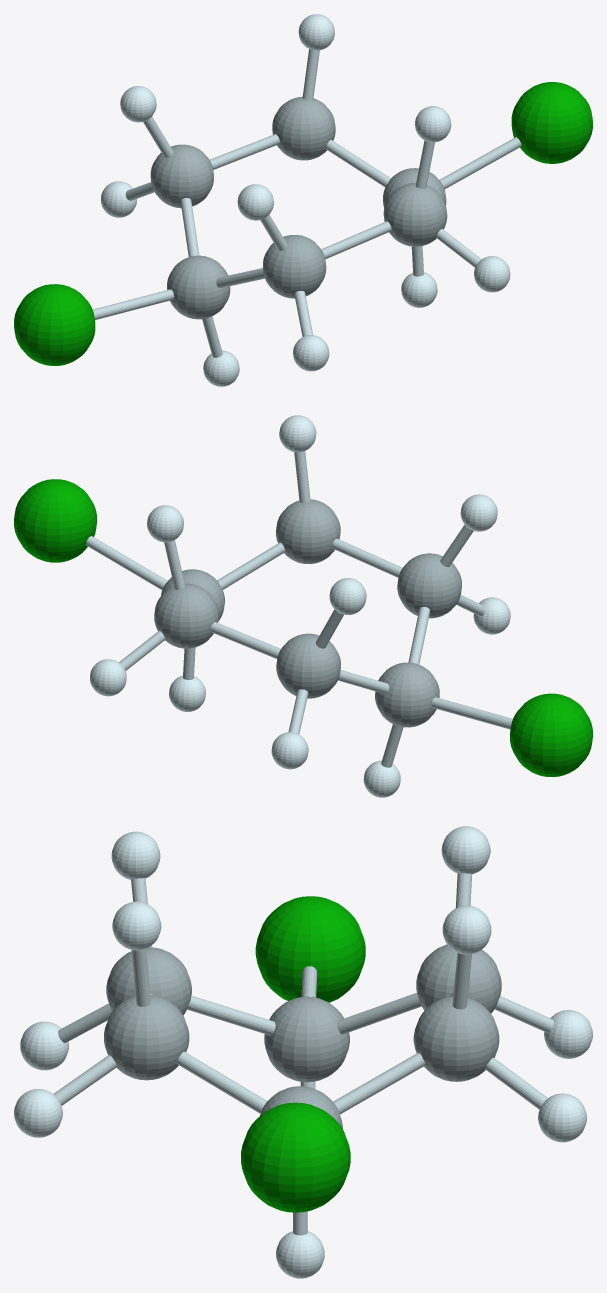
Rendered from irc_step_194.glb.
3 views of the same model, one above another, from view 1: azimuth 30°, elevation 25°; view 2: azimuth 150°, elevation 25°; view 3: azimuth 270°, elevation 25° (orthographic). The views are drawn at different scales.
Parts seen in each view (by area): view 1: Renderer Node; view 2: Renderer Node; view 3: Renderer Node.
Part boxes in pixels (x1,y1,x2,y2): Renderer Node: (14,14,592,386); Renderer Node: (14,415,592,797); Renderer Node: (14,826,592,1278).
Bounding box in the file's own units: 7.12 × 3.49 × 4.72.
